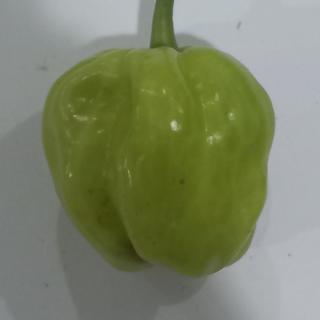Grade-B: (39, 37, 282, 281)
